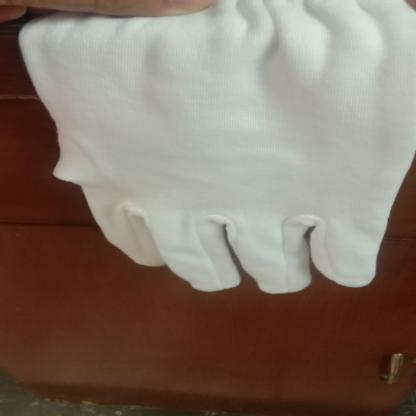gloved_hand: (13, 0, 416, 295)
